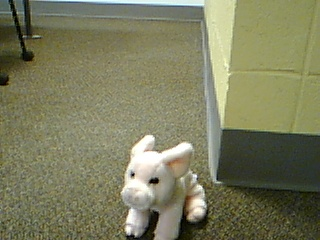piggy: (119, 132, 209, 240)
